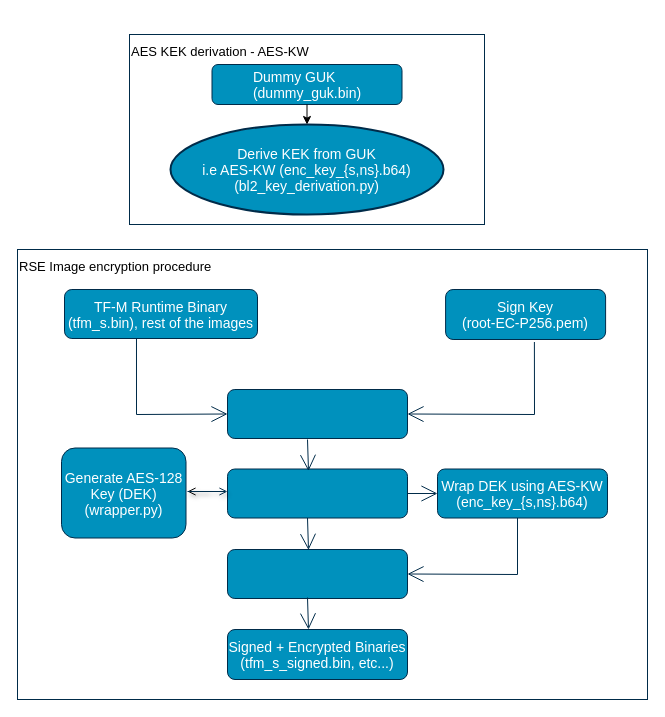
The diagram is 665 pixels wide and 717 high, and some of its shapes have lost their labels. Here are the shapes that lost their labels. From the top down, the centre of each, then its label:
At (317,413): "Sign the image (wrapper.py)".
At (317,493): "Encrypt the image (wrapper.py)".
At (317,573): "Append TLVs to image (wrapper.py)".
